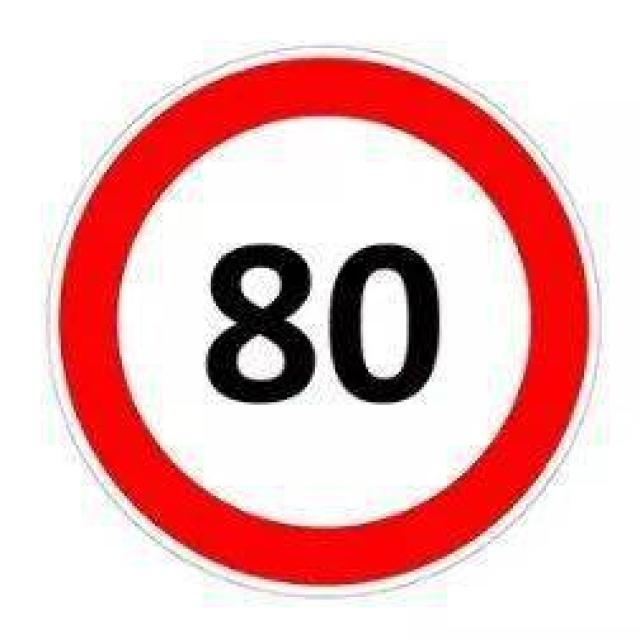speed limit 80: (40, 45, 601, 600)
